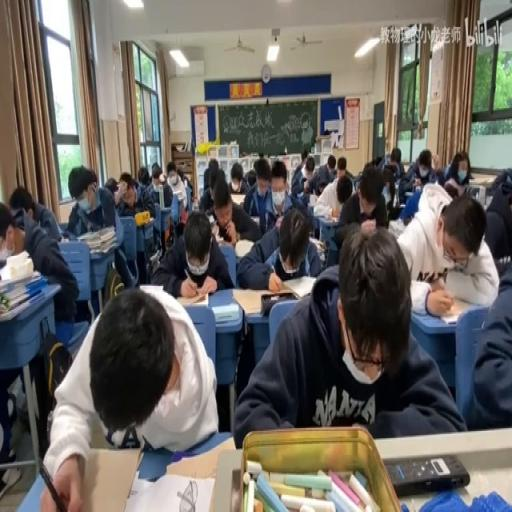calculator: (125, 469, 214, 512), (160, 435, 230, 479), (231, 286, 298, 314), (0, 288, 42, 320), (435, 294, 474, 324), (0, 268, 43, 294), (283, 273, 318, 297), (210, 302, 240, 322), (174, 290, 209, 307), (466, 180, 488, 204), (308, 235, 326, 263), (87, 238, 116, 253), (233, 238, 254, 258), (388, 218, 405, 238), (228, 192, 246, 206), (148, 249, 160, 269), (294, 189, 308, 206), (320, 213, 339, 225), (0, 249, 12, 267), (157, 182, 163, 208), (308, 194, 318, 206), (206, 215, 216, 226), (250, 214, 260, 224), (59, 232, 69, 242), (405, 191, 414, 199)
paper: (236, 228, 460, 442), (40, 283, 216, 509), (394, 184, 498, 308), (6, 180, 84, 338), (151, 208, 231, 297), (334, 160, 389, 242), (66, 165, 116, 237), (251, 155, 296, 228), (482, 171, 511, 260), (398, 146, 438, 204), (145, 161, 174, 232), (441, 151, 472, 199), (198, 158, 224, 213), (111, 172, 139, 216), (310, 154, 336, 194), (110, 248, 134, 288), (8, 186, 36, 220), (290, 152, 312, 194), (382, 146, 405, 178), (332, 222, 354, 250), (228, 161, 245, 193), (335, 154, 353, 184), (177, 166, 193, 198), (386, 204, 402, 224), (104, 176, 118, 194), (432, 166, 446, 184), (138, 165, 150, 185), (336, 189, 350, 206), (166, 161, 178, 179), (245, 168, 256, 186), (368, 156, 381, 170), (430, 152, 439, 171), (393, 182, 400, 206), (152, 168, 162, 183), (301, 148, 308, 162), (302, 163, 310, 175), (301, 176, 307, 190), (258, 152, 264, 158)
person: (384, 452, 470, 494), (230, 466, 242, 510)
